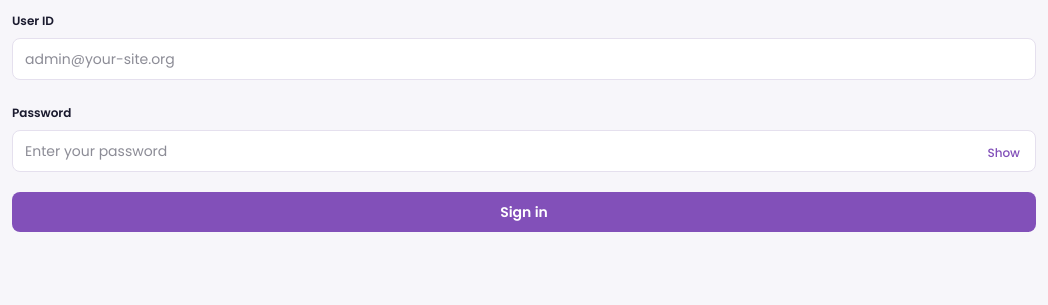
Test: LoginForm › shows the error as an alert and stays on the page
Type "a@b.c" into the field labelled "User ID" at coordinates (524, 59), box [12,38,1036,80]
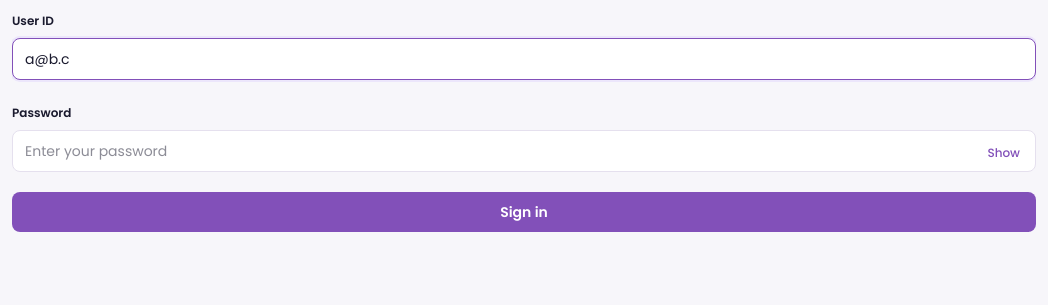
Type "wrong" into the password field labelled "Password" at coordinates (524, 151), box [12,130,1036,172]
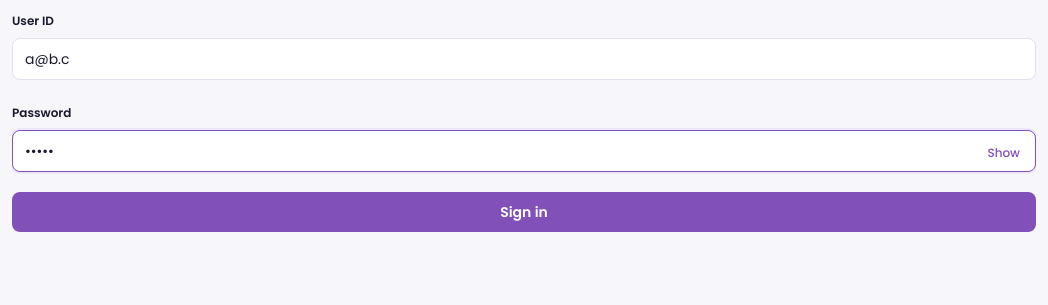
Click the button "Sign in" at coordinates (524, 212), box [12,192,1036,232]
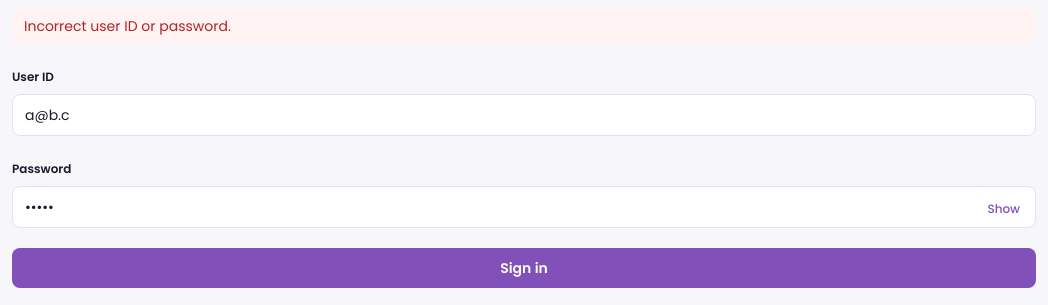
Check: the message reads "Incorrect user ID or password.", box [24,16,231,36]
